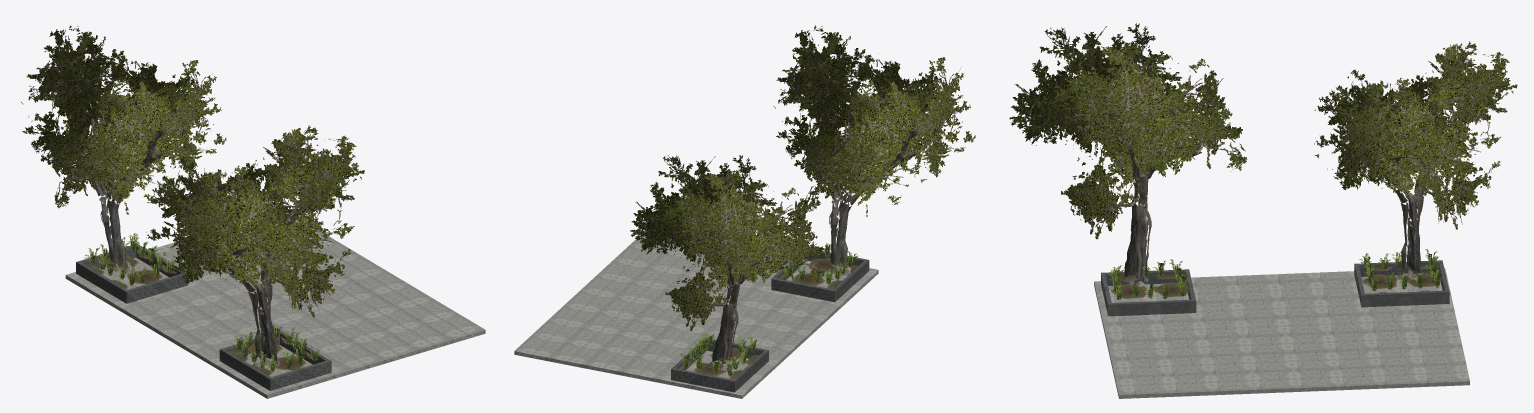
3 renders of one model, left to right at view 1: azimuth 30°, elevation 25°; view 2: azimuth 150°, elevation 25°; view 3: azimuth 270°, elevation 25°, orthographic. The views are drawn at different scales.
Visible parts, largest first — view 1: Island tree branch clusters, Coursed stone, Planter edging, Island tree bark, Low planting, Tree beds; view 2: Island tree branch clusters, Coursed stone, Island tree bark, Planter edging, Low planting, Tree beds; view 3: Island tree branch clusters, Coursed stone, Island tree bark, Planter edging, Low planting, Tree beds.
Boxes of the visible parts, x1,y1,x2,y2 form: Island tree branch clusters: (21,25,364,317); Coursed stone: (65,212,485,398); Planter edging: (76,244,331,390); Island tree bark: (57,81,325,368); Low planting: (84,233,319,372); Tree beds: (87,249,318,375); Island tree branch clusters: (630,25,975,330); Coursed stone: (514,231,878,398); Island tree bark: (686,85,918,370); Planter edging: (671,251,869,392); Low planting: (679,241,858,376); Tree beds: (678,257,859,379); Island tree branch clusters: (1009,23,1517,239); Coursed stone: (1094,267,1469,398); Island tree bark: (1062,104,1467,286); Planter edging: (1101,260,1449,316); Low planting: (1108,249,1442,299); Tree beds: (1111,265,1437,301).
Size of the model in its own units: 11.14 by 8.16 by 14.67.
Materials: 6 (6 with a texture image).
